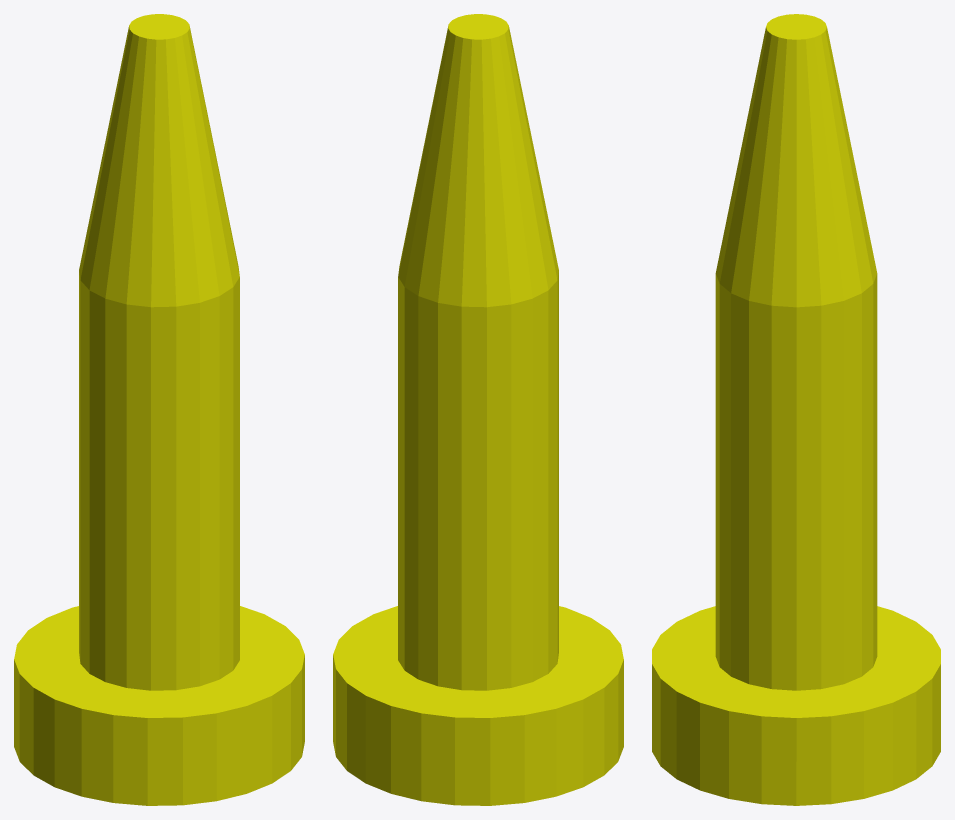
Rendered from yellow_marker_nun.dae.
3 views of the same model, side by side, from view 1: azimuth 30°, elevation 25°; view 2: azimuth 150°, elevation 25°; view 3: azimuth 270°, elevation 25° (orthographic).
Visible parts, largest first — view 1: ShapeIndexedFaceSet; view 2: ShapeIndexedFaceSet; view 3: ShapeIndexedFaceSet.
Boxes of the visible parts, <box> form: ShapeIndexedFaceSet: <box>14,14,304,805</box>; ShapeIndexedFaceSet: <box>333,14,623,805</box>; ShapeIndexedFaceSet: <box>652,14,940,805</box>.
Bounding box in the file's own units: 0.4572 × 0.4539 × 1.24.
